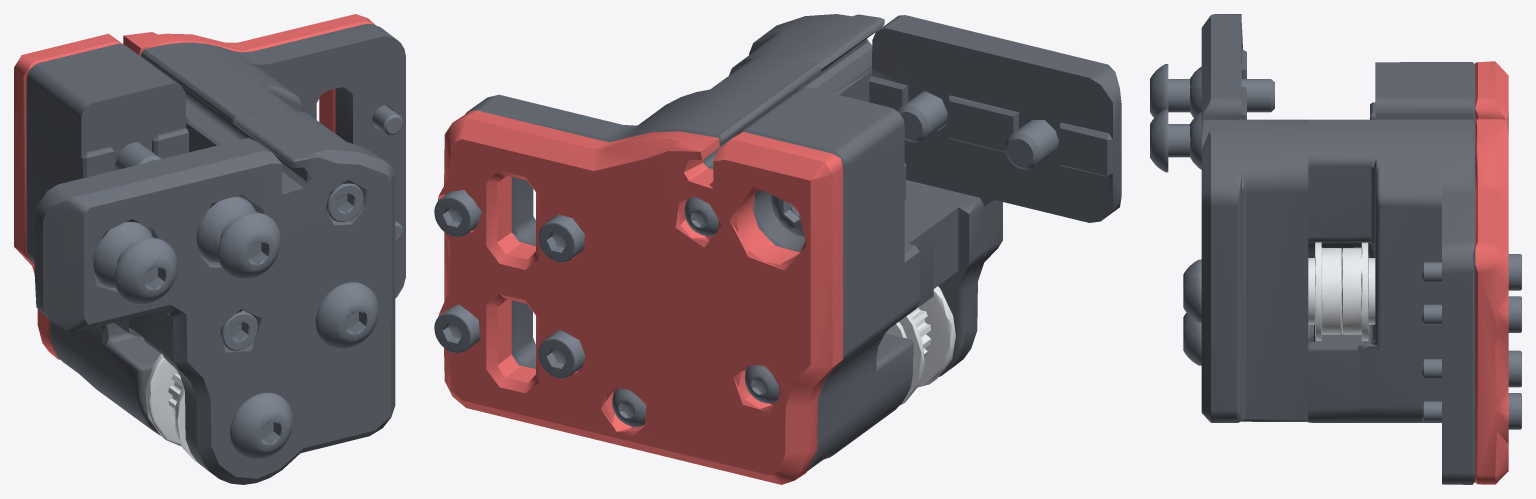
The picture shows the model from 3 angles, left to right: view 1: azimuth 30°, elevation 25°; view 2: azimuth 150°, elevation 25°; view 3: azimuth 270°, elevation 25°; orthographic projection. The views are drawn at different scales.
Parts seen in each view (by area): view 1: xy_right_upper, xy_right_lower, [a]_xy_right, m5x16_bhcs__4__36, m5x16_bhcs__4_, m5x40_bhcs__1_, m5x40_bhcs__1__23, gt2_20t_idler__1___1_, m5x10_bhcs__1___1__15, m5x10_bhcs__1___1_, m3x40_shcs__1___1__26, m3x40_shcs__1___1_ (+2 smaller); view 2: [a]_xy_right, xy_right_upper, xy_right_lower, gt2_20t_idler__1___1_, m3x12_shcs__1___2_, m3x12_shcs__1___2__21, m3x12_shcs__1___2__20, m3x12_shcs__1___2__16, m5x10_bhcs__1___1_, m5x16_bhcs__4_, m5x10_bhcs__1___1__15, m3x6_bhcs__1___1__24 (+4 smaller); view 3: xy_right_lower, xy_right_upper, [a]_xy_right, f695_zz__1___2_, f695_zz__1___2__5, m5x16_bhcs__4__36, m5x16_bhcs__4_, m5x10_bhcs__1___1_, m5x40_bhcs__1_, m3x12_shcs__1___2_, m3x12_shcs__1___2__16, m3x12_shcs__1___2__20 (+5 smaller).
Boxes of the visible parts, <box> form: xy_right_upper: <box>34,110,395,484</box>; xy_right_lower: <box>26,24,405,435</box>; [a]_xy_right: <box>14,14,375,359</box>; m5x16_bhcs__4__36: <box>114,238,177,304</box>; m5x16_bhcs__4_: <box>218,212,280,279</box>; m5x40_bhcs__1_: <box>315,282,378,349</box>; m5x40_bhcs__1__23: <box>230,392,292,459</box>; gt2_20t_idler__1___1_: <box>145,353,197,462</box>; m5x10_bhcs__1___1__15: <box>196,196,256,263</box>; m5x10_bhcs__1___1_: <box>93,222,153,288</box>; m3x40_shcs__1___1__26: <box>326,183,363,222</box>; m3x40_shcs__1___1_: <box>220,310,257,350</box>; [a]_xy_right: <box>438,110,842,484</box>; xy_right_upper: <box>729,14,1121,376</box>; xy_right_lower: <box>465,56,933,471</box>; gt2_20t_idler__1___1_: <box>899,286,955,404</box>; m3x12_shcs__1___2_: <box>538,214,584,262</box>; m3x12_shcs__1___2__21: <box>538,330,585,378</box>; m3x12_shcs__1___2__20: <box>434,304,480,352</box>; m3x12_shcs__1___2__16: <box>434,189,481,236</box>; m5x10_bhcs__1___1_: <box>1005,120,1058,169</box>; m5x16_bhcs__4_: <box>897,91,947,142</box>; m5x10_bhcs__1___1__15: <box>900,90,947,142</box>; m3x6_bhcs__1___1__24: <box>745,365,779,403</box>; xy_right_lower: <box>1308,62,1475,484</box>; xy_right_upper: <box>1201,14,1308,422</box>; [a]_xy_right: <box>1475,61,1508,484</box>; f695_zz__1___2_: <box>1341,242,1368,341</box>; f695_zz__1___2__5: <box>1315,242,1341,341</box>; m5x16_bhcs__4__36: <box>1150,64,1274,117</box>; m5x16_bhcs__4_: <box>1150,109,1190,172</box>; m5x10_bhcs__1___1_: <box>1190,66,1274,117</box>; m5x40_bhcs__1_: <box>1183,259,1368,322</box>; m3x12_shcs__1___2_: <box>1422,254,1521,290</box>; m3x12_shcs__1___2__16: <box>1422,296,1521,332</box>; m3x12_shcs__1___2__20: <box>1422,393,1521,429</box>.
Bounding box in the file's own units: 0.0747 × 0.0488 × 0.0558.
